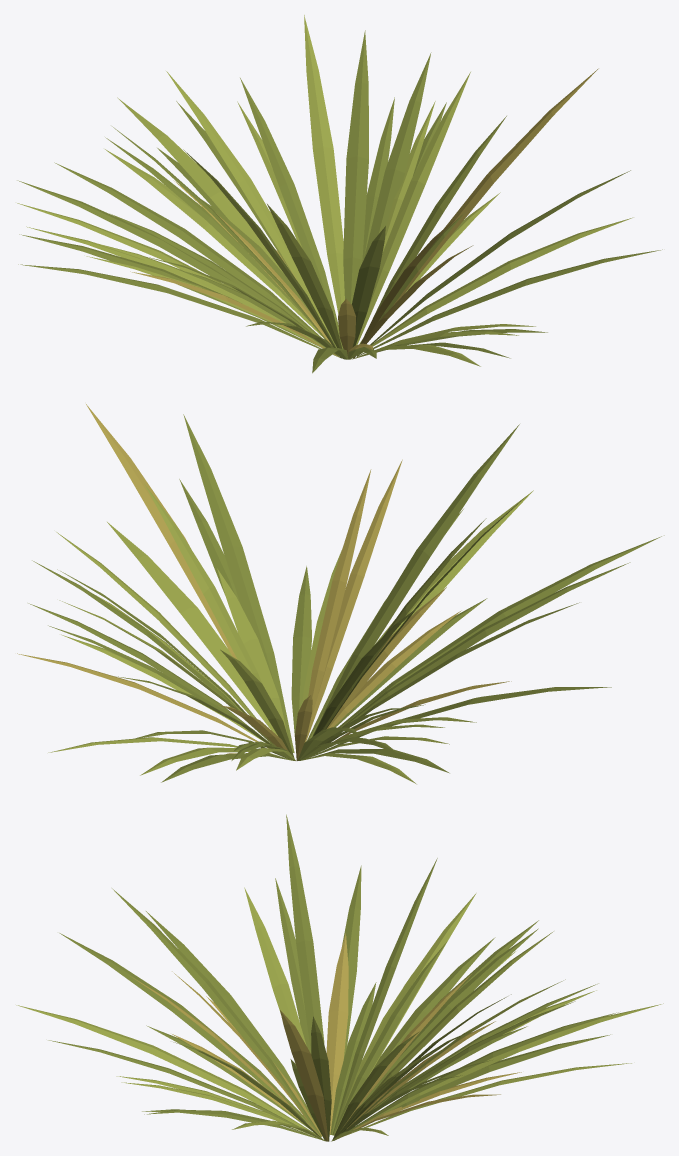
File: yucca_gold.glb
3 views of the same model, one above another, from view 1: azimuth 30°, elevation 25°; view 2: azimuth 150°, elevation 25°; view 3: azimuth 270°, elevation 25° (orthographic). The views are drawn at different scales.
Visible parts, largest first — view 1: yucca_gold; view 2: yucca_gold; view 3: yucca_gold.
Boxes of the visible parts, x1,y1,x2,y2 form: yucca_gold: (17, 15, 662, 373); yucca_gold: (17, 404, 664, 784); yucca_gold: (16, 814, 663, 1141).
Bounding box in the file's own units: 1.77 × 0.8436 × 2.05.
